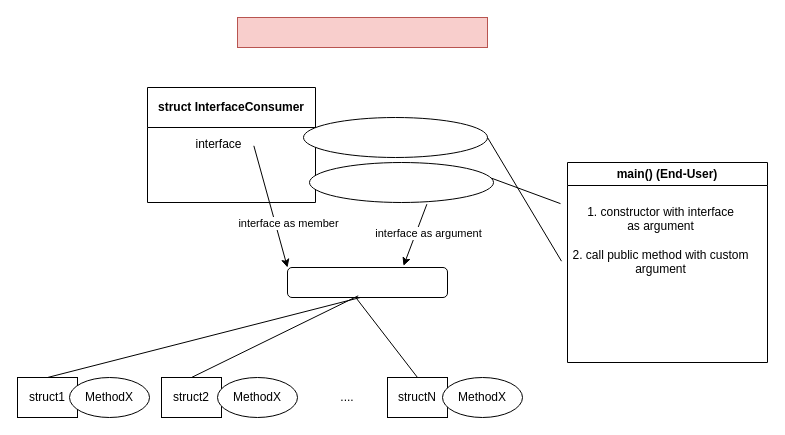
Some shapes in this 785 by 435 pixel diagram are drawn without their labels. The shapes that lost their labels are listed below. From the top down, each one's centre as x and y in pixels, then its label:
At point 362,32: "Dependency Injection in Go via Interfaces".
At point 395,137: "public method with custom arguments".
At point 401,182: "constructor method with interface as argument".
At point 367,282: "interface - Method X".
